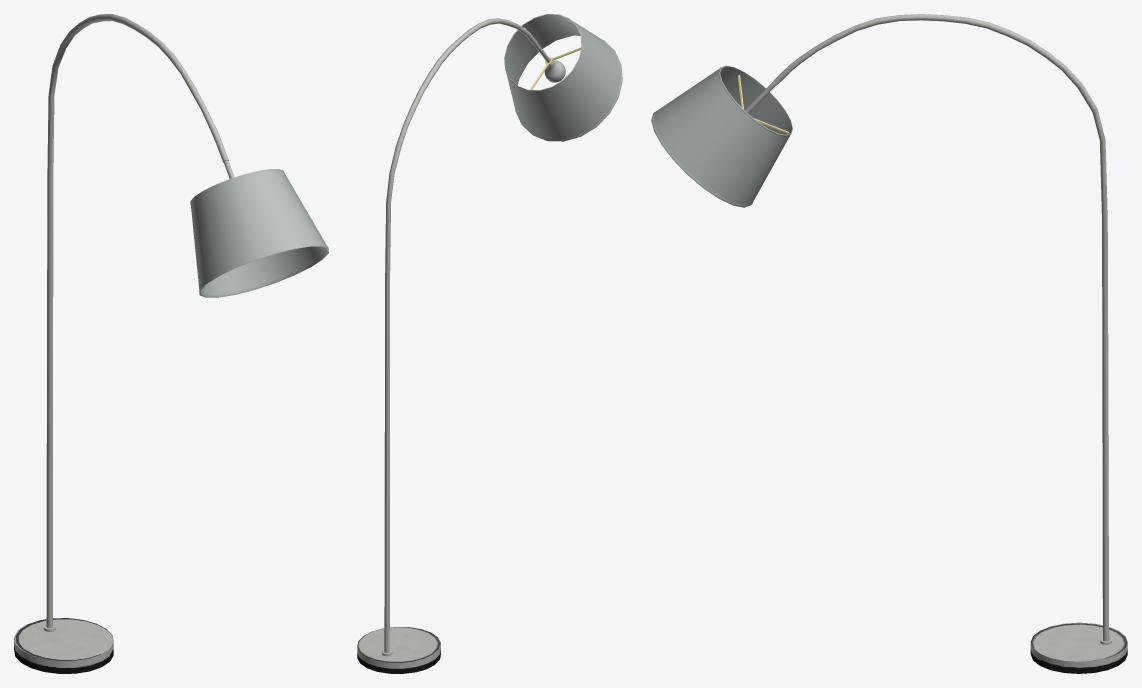
File: floor-lamp-arc.glb
3 renders of one model, left to right at view 1: azimuth 30°, elevation 25°; view 2: azimuth 150°, elevation 25°; view 3: azimuth 270°, elevation 25°, orthographic. The views are drawn at different scales.
Visible parts, largest first — view 1: "$ACAGPHNAABCAAAAAICBAAAAAAAAACGPFIGHN"; view 2: "$ACAGPHNAABCAAAAAICBAAAAAAAAACGPFIGHN"; view 3: "$ACAGPHNAABCAAAAAICBAAAAAAAAACGPFIGHN".
Part boxes in pixels (left/top/right/bottom): "$ACAGPHNAABCAAAAAICBAAAAAAAAACGPFIGHN": left=14, top=14, right=328, bottom=673; "$ACAGPHNAABCAAAAAICBAAAAAAAAACGPFIGHN": left=357, top=14, right=622, bottom=673; "$ACAGPHNAABCAAAAAICBAAAAAAAAACGPFIGHN": left=651, top=14, right=1127, bottom=673.
Bounding box in the file's own units: 0.381 × 2.11 × 1.42.
Materials: 1 (1 with a texture image).
